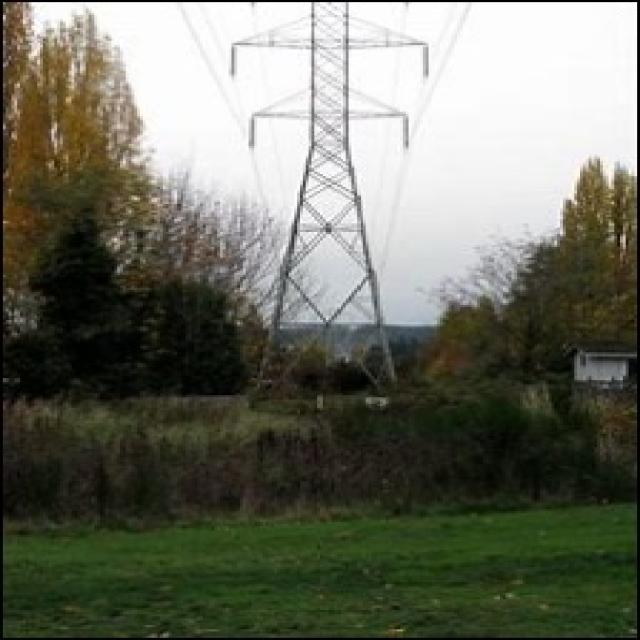utility poles: (173, 203, 315, 419), (338, 273, 507, 408)
